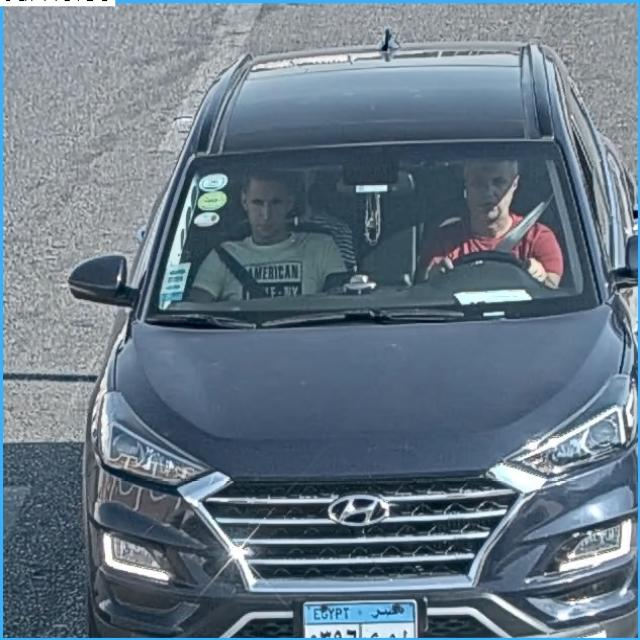windshield: (148, 153, 603, 315)
